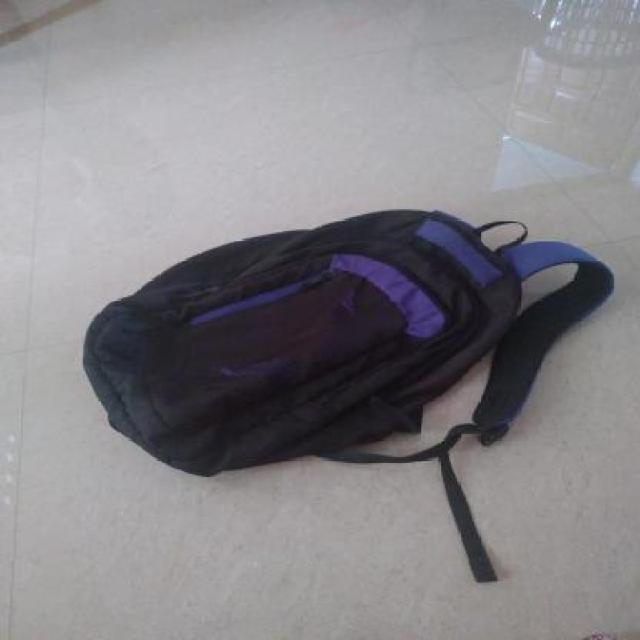backpack: (77, 210, 615, 478)
